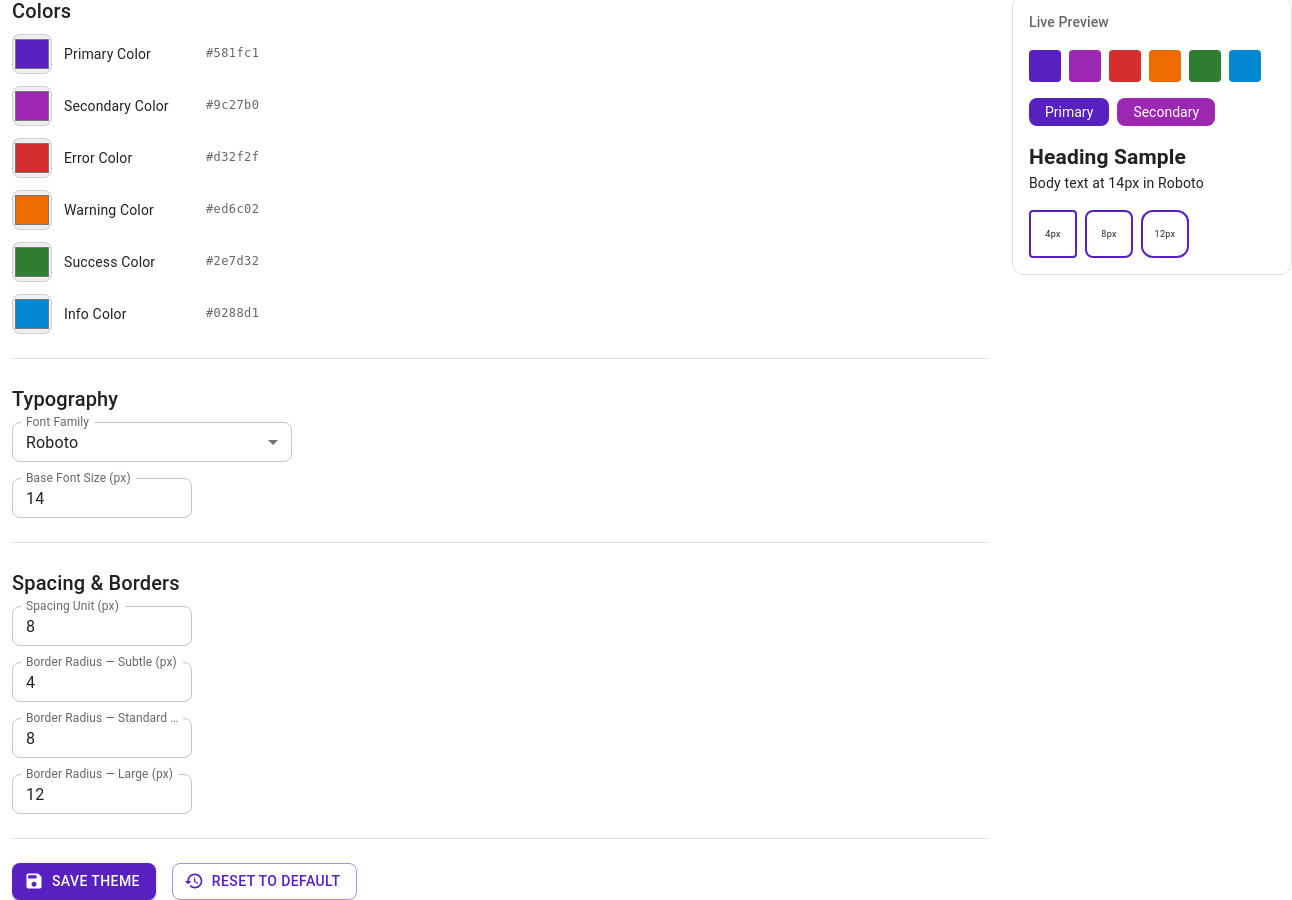
Scenario: ThemeEditorTab — reset › shows reset success alert after resetting
The image size is (1292, 900).
What coordinates should you click on to do the following:
click the button with test id "reset-theme-btn"
I would click on:
 (264, 881)
Its box is [172,863,357,899].
(page scrolled)
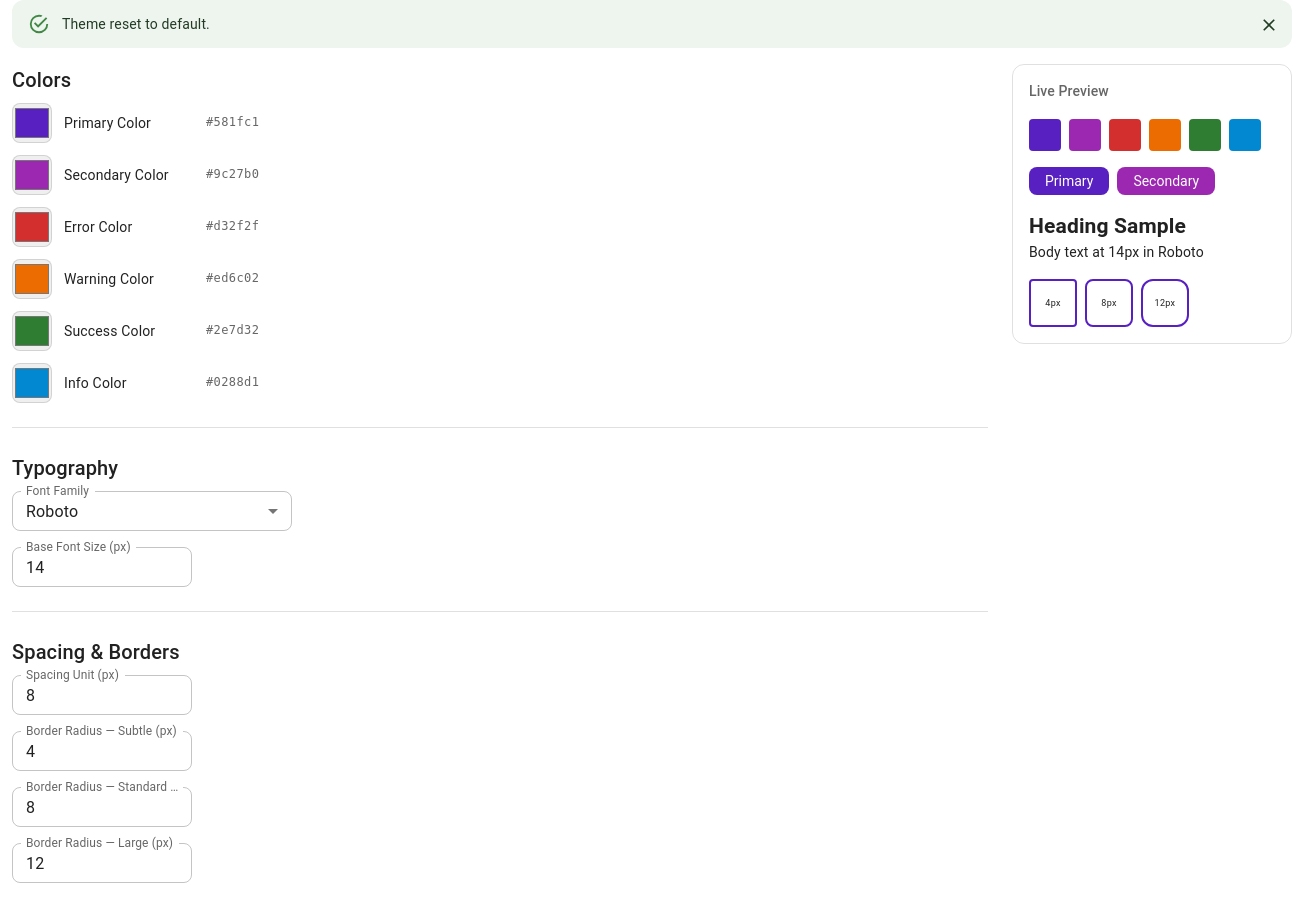
expect the message "Theme reset to default." is shown: met, box [12,0,1291,48]
